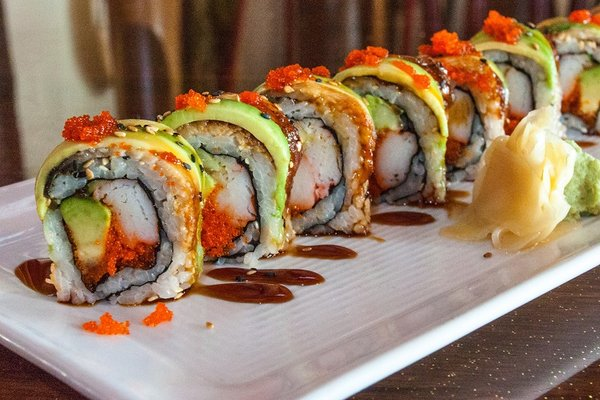soup: (27, 117, 206, 307)
